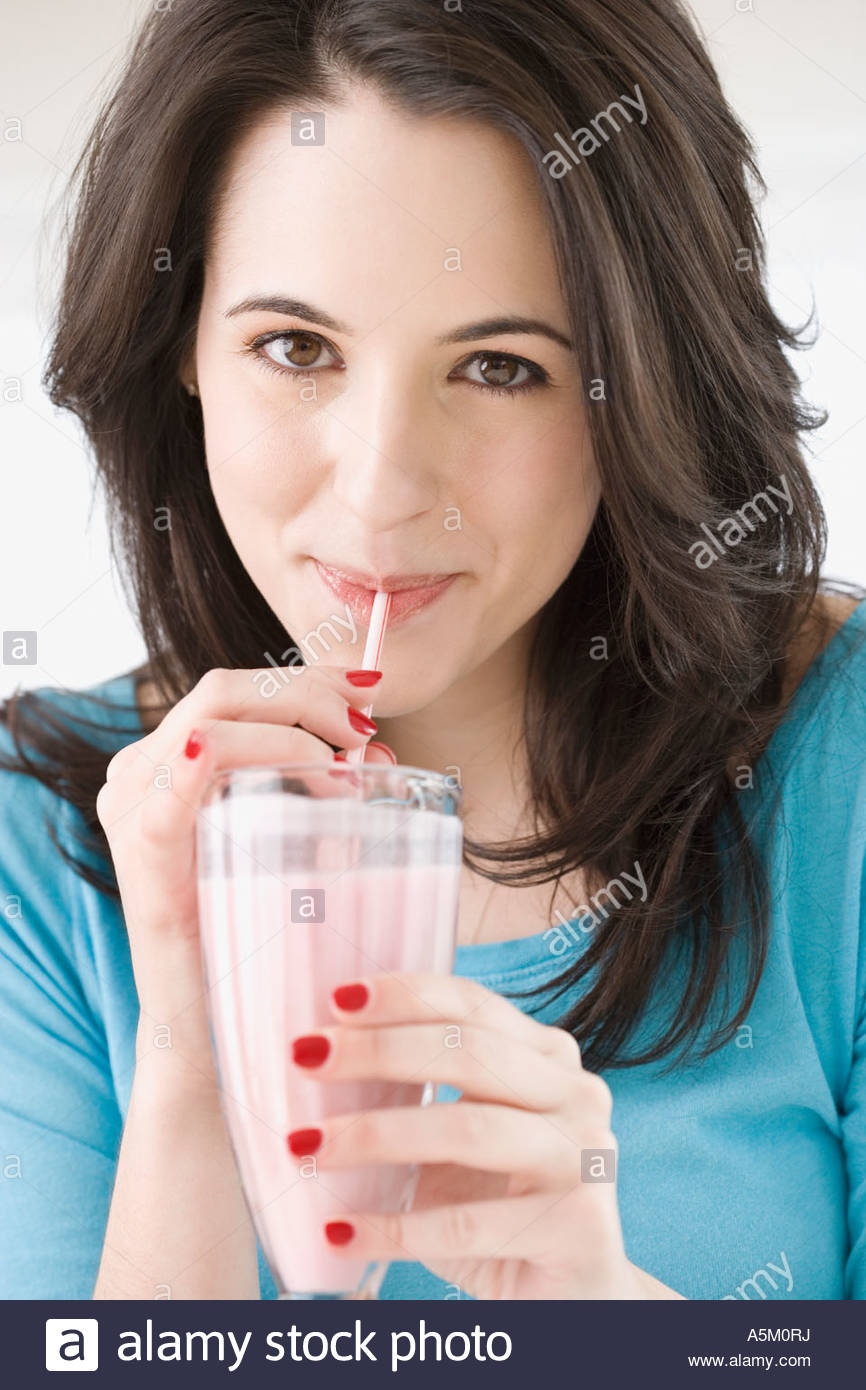drinking: (17, 9, 805, 1249)
